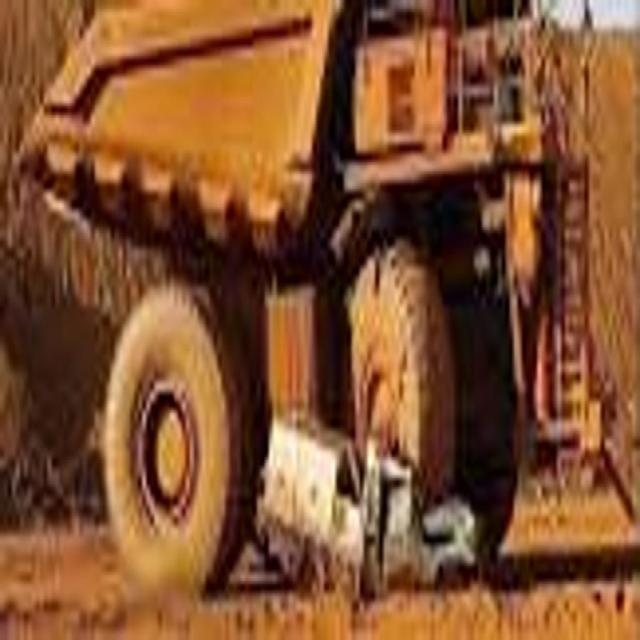dump_truck: (22, 5, 598, 602)
